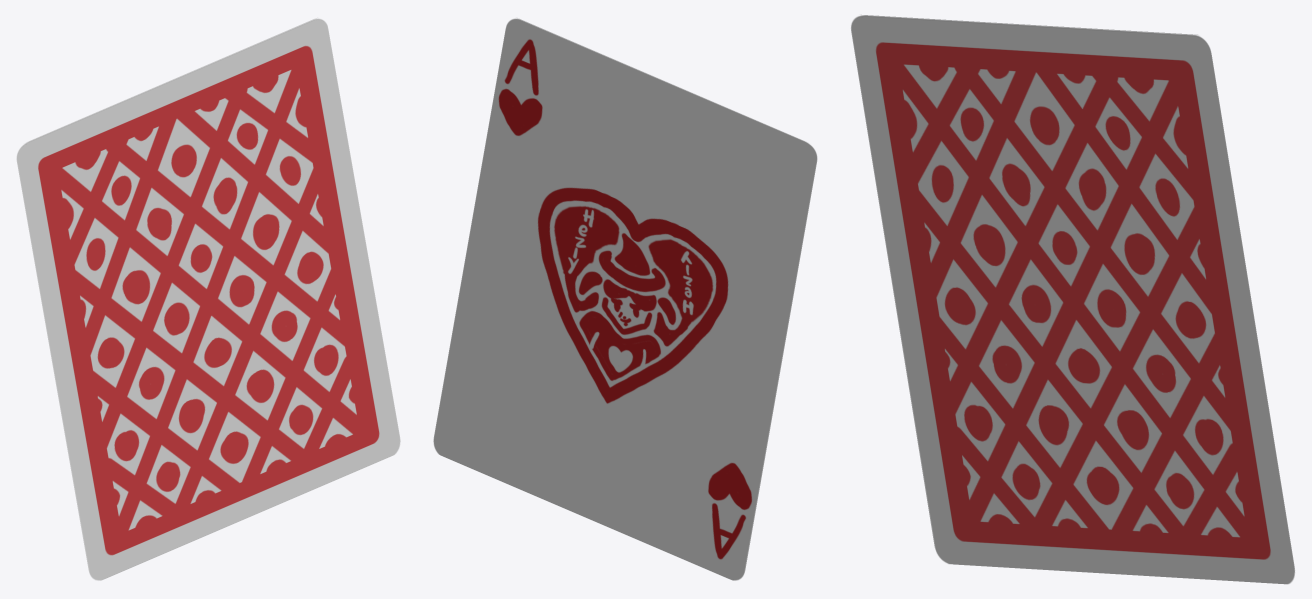
File: aceofheartsgw.glb
3 renders of one model, left to right at view 1: azimuth 30°, elevation 25°; view 2: azimuth 150°, elevation 25°; view 3: azimuth 330°, elevation 25°, orthographic. The views are drawn at different scales.
Parts seen in each view (by area): view 1: Cube.001, Cube; view 2: Cube, Cube.001; view 3: Cube.001, Cube.
Part boxes in pixels (bbox=[...]): Cube.001: bbox=[17, 20, 400, 580]; Cube: bbox=[16, 18, 398, 572]; Cube: bbox=[434, 18, 817, 579]; Cube.001: bbox=[433, 30, 816, 580]; Cube.001: bbox=[851, 16, 1294, 584]; Cube: bbox=[851, 15, 1294, 567].
Size of the model in its own units: 0.9823 by 1.24 by 0.0001.
Materials: 2 (2 with a texture image).
